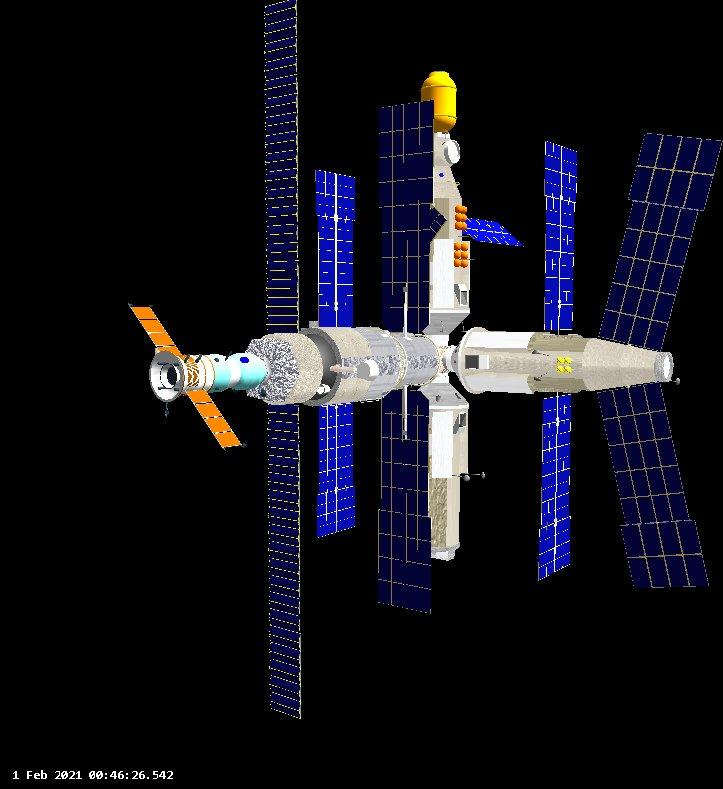antenna: (358, 360, 381, 382), (673, 377, 682, 386), (531, 348, 542, 355), (533, 376, 543, 383), (463, 474, 471, 482), (481, 472, 486, 480)
body: (246, 326, 441, 407), (457, 326, 675, 396), (419, 71, 472, 336), (415, 382, 471, 563), (149, 352, 268, 401)
solar: (595, 129, 723, 354), (598, 380, 712, 591), (376, 97, 437, 335), (374, 387, 436, 619), (260, 0, 302, 336), (263, 404, 303, 726), (532, 387, 576, 583), (539, 138, 582, 335), (314, 166, 359, 328), (315, 400, 360, 542), (186, 384, 247, 452), (127, 302, 184, 359), (463, 215, 529, 249), (430, 207, 448, 246)
thruster: (160, 363, 181, 389), (260, 386, 267, 399)
